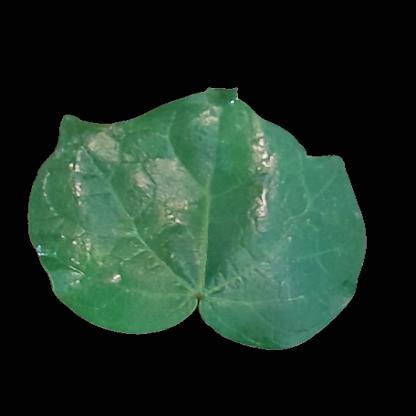healthy: (79, 138, 297, 305), (286, 177, 348, 290), (223, 298, 336, 330), (178, 106, 250, 140)
